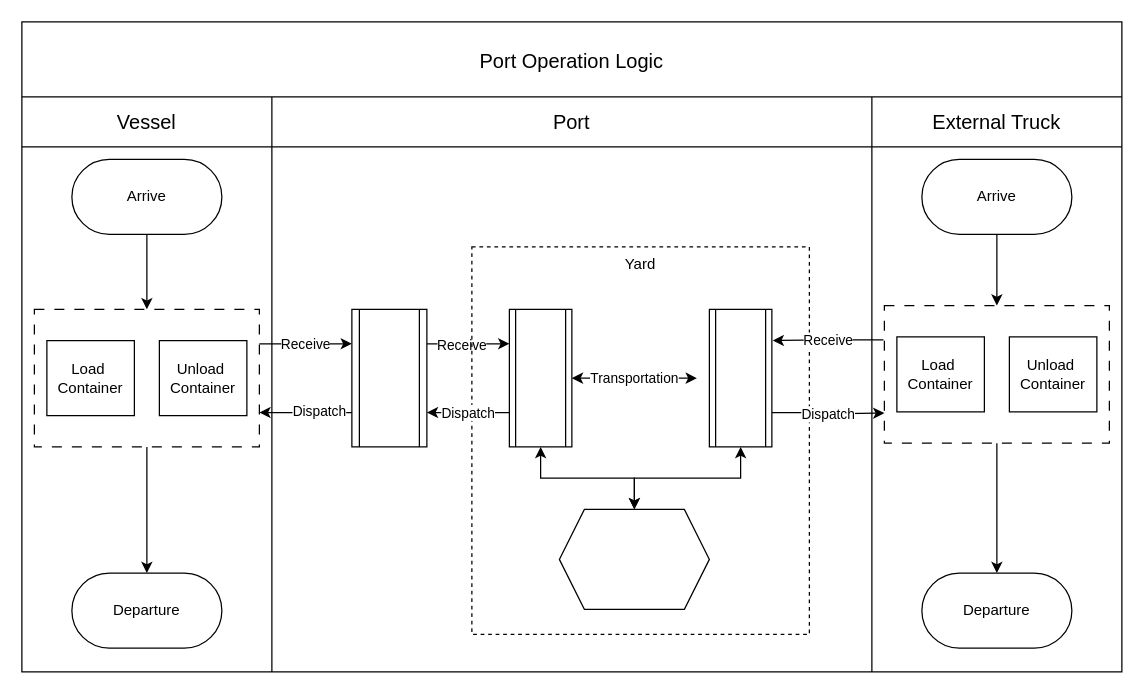
The diagram is 1144 pixels wide and 694 high, and some of its shapes have lost their labels. The box of each missing label's shape, as (x1, y1, x2, y2) in pixels:
Container Reallocation Between/Within Yards: (558, 508, 709, 609)
Quay Crane: (351, 308, 427, 447)
Truck: (508, 308, 572, 447)
Yard Crane: (708, 308, 772, 447)
